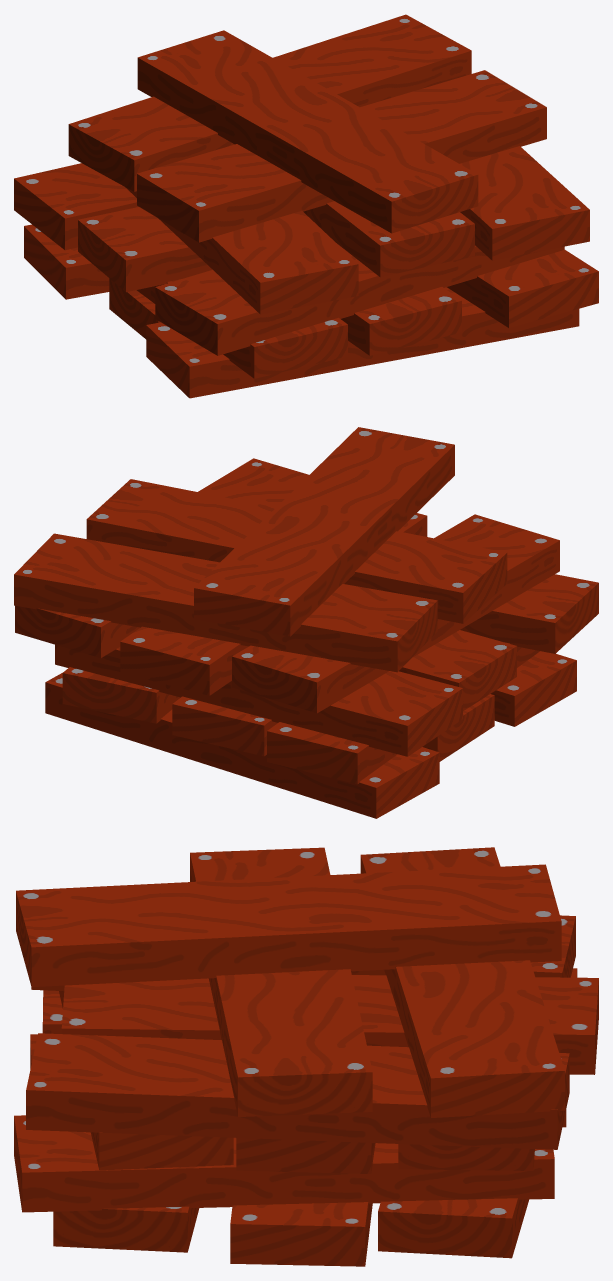
Rendered from woodWorkshopMaterial3.fbx.
3 renders of one model, top to bottom at view 1: azimuth 30°, elevation 25°; view 2: azimuth 150°, elevation 25°; view 3: azimuth 270°, elevation 25°, orthographic. The views are drawn at different scales.
Parts seen in each view (by area): view 1: WoodDesk; view 2: WoodDesk; view 3: WoodDesk.
Part boxes in pixels (left/top/right/bottom): WoodDesk: left=14, top=14, right=598, bottom=398; WoodDesk: left=14, top=427, right=598, bottom=818; WoodDesk: left=14, top=847, right=598, bottom=1266.
Size of the model in its own units: 74.67 by 31.76 by 72.65.
Materials: 3 (3 with a texture image).
